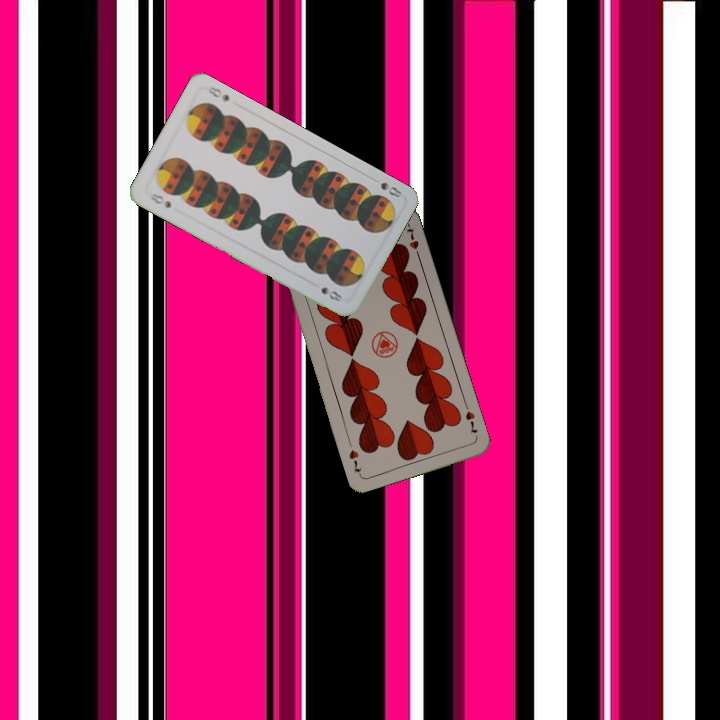H7: (461, 407, 480, 436)
S8: (367, 173, 404, 200), (146, 189, 174, 211)
